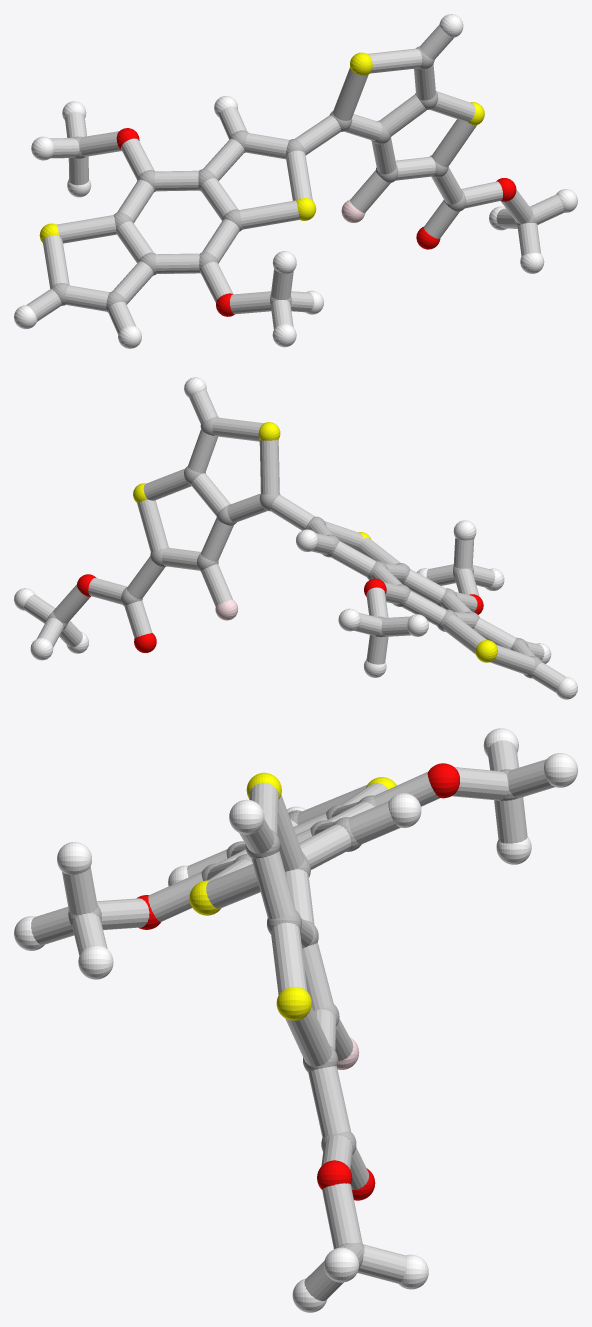
The model's file is color.glb.
The picture shows the model from 3 angles, top to bottom: view 1: azimuth 30°, elevation 25°; view 2: azimuth 150°, elevation 25°; view 3: azimuth 270°, elevation 25°; orthographic projection. The views are drawn at different scales.
Visible parts, largest first — view 1: grp15205, grp8689, grp1, grp7241, grp13395; view 2: grp15205, grp8689, grp1, grp7241, grp13395; view 3: grp15205, grp8689, grp1, grp13395, grp7241.
Part boxes in pixels (<box>): grp15205: <box>26,24,564,334</box>; grp8689: <box>14,14,577,348</box>; grp1: <box>50,46,536,312</box>; grp7241: <box>39,52,484,242</box>; grp13395: <box>116,128,516,316</box>; grp15205: <box>24,390,565,692</box>; grp8689: <box>14,377,577,699</box>; grp1: <box>47,416,541,678</box>; grp7241: <box>133,422,497,662</box>; grp13395: <box>77,574,483,652</box>; grp15205: <box>31,740,554,1300</box>; grp8689: <box>14,728,577,1312</box>; grp1: <box>68,769,517,1268</box>; grp13395: <box>137,763,459,1200</box>; grp7241: <box>189,772,396,1020</box>.
Bounding box in the file's own units: 16.58 × 8.21 × 9.61.
